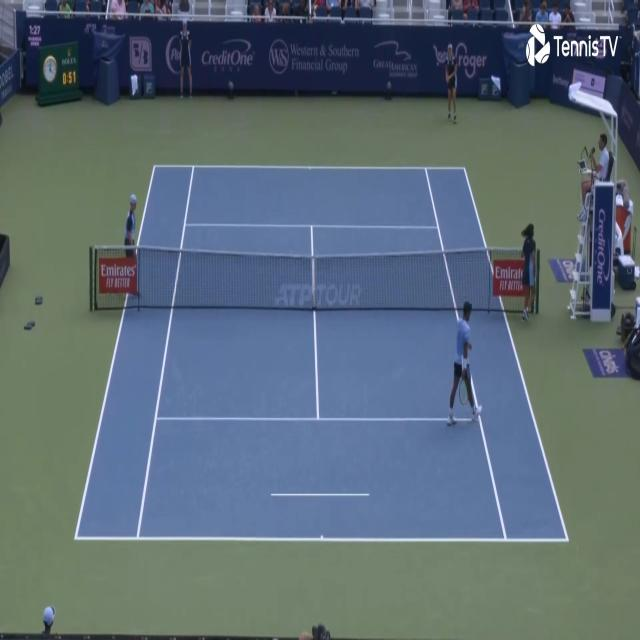tennis-player: (445, 299, 484, 432)
